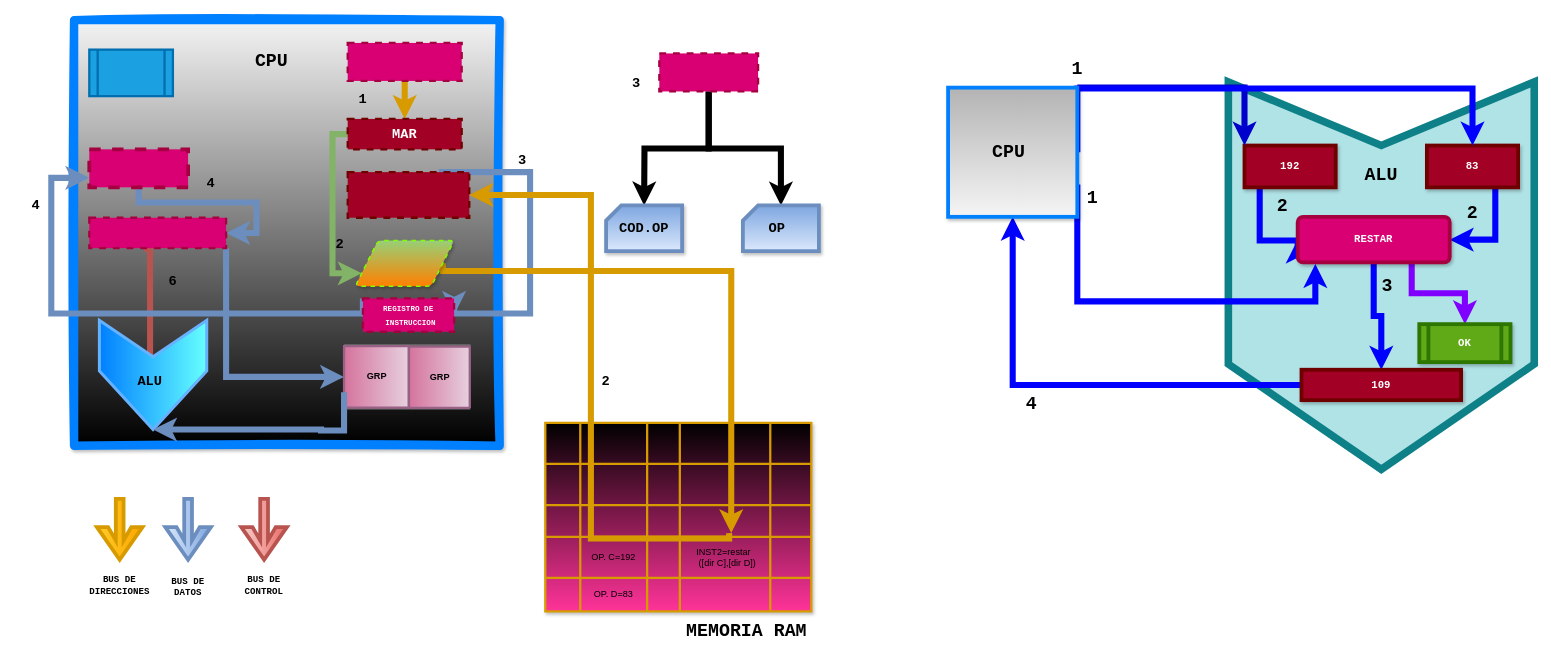
This 1551x668 diagram has some shape labels left out. Each missing label, with the centre of its shape:
"CONTADOR DE PROGRAMA" belongs at [404,61].
"DECODIFICADOR DE INTRUCCION" belongs at [138,168].
"DECODIFICADOR INSTRUCCIÓN" belongs at [708,72].
"MDR" belongs at [408,194].
"RELOJ" belongs at [131,72].
"SELECTOR DE MEMORIA" belongs at [405,264].
"SELECTOR INSTRUCCIÓN" belongs at [157,232].
